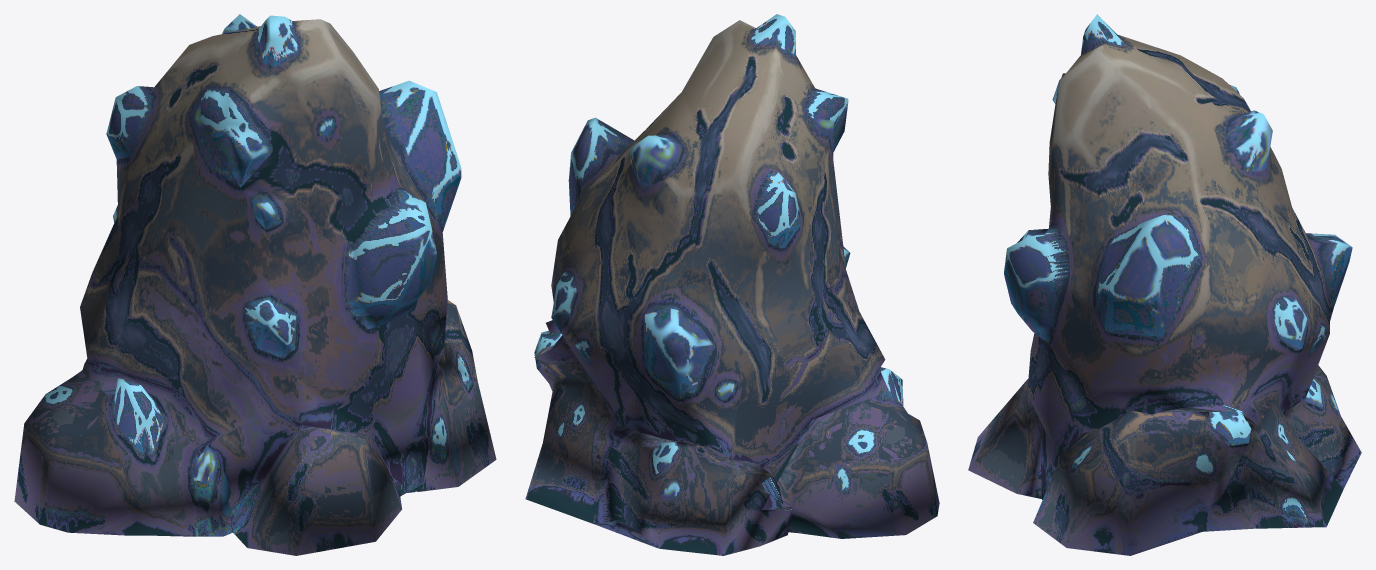
File: ore.obj
3 renders of one model, left to right at view 1: azimuth 30°, elevation 25°; view 2: azimuth 150°, elevation 25°; view 3: azimuth 270°, elevation 25°, orthographic. The views are drawn at different scales.
Parts seen in each view (by area): view 1: defaultMaterial; view 2: defaultMaterial; view 3: defaultMaterial.
Part boxes in pixels (box(x1,y1,x2,y2)): defaultMaterial: box(14, 14, 496, 555); defaultMaterial: box(525, 14, 939, 555); defaultMaterial: box(968, 14, 1361, 555).
Size of the model in its own units: 1.16 by 1.25 by 1.01.
